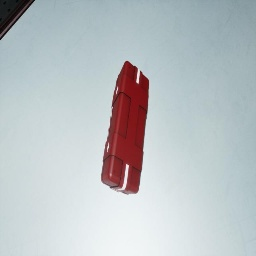FirstAidBox ,: (101, 61, 149, 195)
